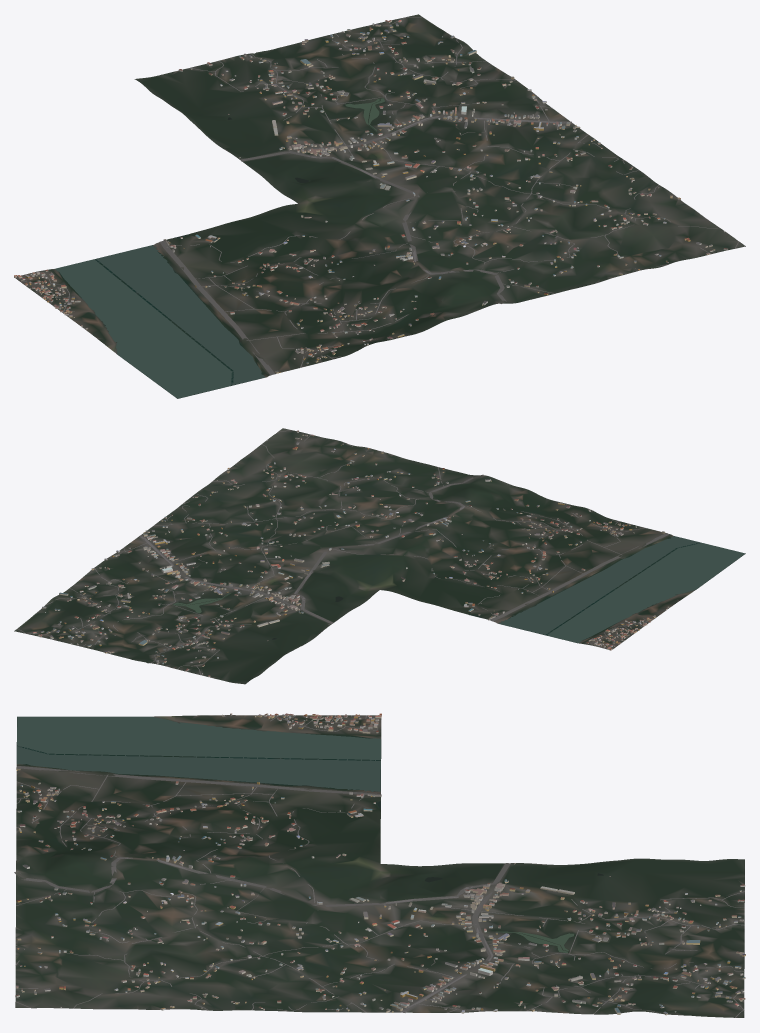
3 renders of one model, top to bottom at view 1: azimuth 30°, elevation 25°; view 2: azimuth 150°, elevation 25°; view 3: azimuth 270°, elevation 25°, orthographic. The views are drawn at different scales.
Parts seen in each view (by area): view 1: ground, water, buildings, roads; view 2: ground, water, buildings, roads; view 3: ground, water, buildings, roads.
Boxes of the visible parts, left/top/right/bottom form: ground: left=14, top=14, right=745, bottom=398; water: left=55, top=98, right=384, bottom=398; buildings: left=14, top=20, right=727, bottom=373; roads: left=21, top=17, right=739, bottom=374; ground: left=14, top=428, right=745, bottom=684; water: left=173, top=536, right=745, bottom=643; buildings: left=33, top=430, right=669, bottom=677; roads: left=17, top=430, right=669, bottom=675; ground: left=15, top=715, right=744, bottom=1017; water: left=17, top=716, right=603, bottom=952; buildings: left=15, top=713, right=745, bottom=1015; roads: left=14, top=715, right=744, bottom=1017.
Bounding box in the file's own units: 2813 × 105 × 2816.
